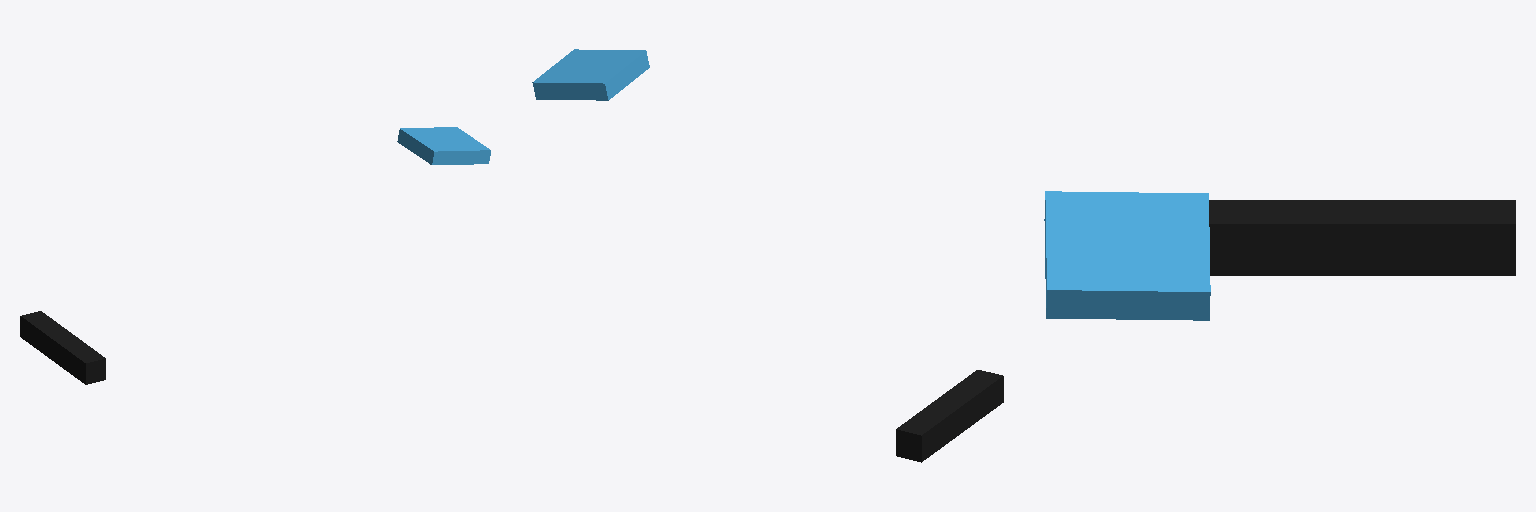
The robot description file, URDF, robot "euler_calibration":
<?xml version="1.0" ?>
<!-- =================================================================================== -->
<!-- |    This document was autogenerated by xacro from camera_scene.xacro             | -->
<!-- |    EDITING THIS FILE BY HAND IS NOT RECOMMENDED                                 | -->
<!-- =================================================================================== -->
<robot name="euler_calibration" xmlns:xacro="http://ros.org/wiki/xacro">
  <link name="world_frame"/>
  <link name="target_frame">
    <visual>
      <origin xyz="0.0 0.0 0.0"/>
      <geometry>
        <box size="0.1143 0.1143 0.025"/>
      </geometry>
    </visual>
  </link>
  <joint name="$world_2_cal_target" type="fixed">
    <parent link="world_frame"/>
    <child link="target_frame"/>
    <origin rpy="-0.022 2.9299 -3.131" xyz="0.649 -.161 0.289"/>
  </joint>
  <material name="asusdark_silver">
    <color rgba="0.15 0.15 0.15 1"/>
  </material>
  <link name="asus_link"/>
  <link name="asus_frame">
    <visual>
      <origin rpy="0 0 0" xyz="0 0 0"/>
      <geometry>
        <box size="0.04 0.22 0.04"/>
      </geometry>
      <material name="asusdark_silver"/>
    </visual>
    <collision>
      <origin rpy="0 0 0" xyz="0 0 0"/>
      <geometry>
        <box size="0.04 0.22 0.04"/>
      </geometry>
    </collision>
  </link>
  <link name="asus_ir_link">
    <visual>
      <origin rpy="0 0 0" xyz="0 0 0"/>
      <geometry>
        <sphere radius="0.0005"/>
      </geometry>
    </visual>
  </link>
  <link name="asus_rgb_link">
    <visual>
      <origin rpy="0 0 0" xyz="0 0 0"/>
      <geometry>
        <sphere radius="0.0005"/>
      </geometry>
    </visual>
  </link>
  <link name="asus_rgb_frame"/>
  <link name="asus_ir_optical_frame"/>
  <link name="asus_rgb_optical_frame"/>
  <link name="asus_link_x_trans">
    <visual>
      <origin rpy="0 0 0" xyz="0 0 0"/>
      <geometry>
        <sphere radius="0.0005"/>
      </geometry>
    </visual>
  </link>
  <link name="asus_link_y_trans"/>
  <link name="asus_link_z_trans"/>
  <link name="asus_link_pitch"/>
  <link name="asus_link_yaw"/>
  <joint name="asus_link_x_joint" type="prismatic">
    <parent link="world_frame"/>
    <child link="asus_link_x_trans"/>
    <origin rpy="0 0 0" xyz="0 0 0"/>
    <axis rpy="0 0 0" xyz="1 0 0"/>
    <limit effort="30" lower="-1.0" upper="1.0" velocity="0.0508"/>
  </joint>
  <joint name="asus_link_y_joint" type="prismatic">
    <parent link="asus_link_x_trans"/>
    <child link="asus_link_y_trans"/>
    <origin rpy="0 0 0" xyz="0 0 0"/>
    <axis rpy="0 0 0" xyz="0 1 0"/>
    <limit effort="30" lower="-1.0" upper="1.0" velocity="0.0508"/>
  </joint>
  <joint name="asus_link_z_joint" type="prismatic">
    <parent link="asus_link_y_trans"/>
    <child link="asus_link_z_trans"/>
    <origin rpy="0 0 0" xyz="0 0 0"/>
    <axis rpy="0 0 0" xyz="0 0 1"/>
    <limit effort="30" lower="-1.0" upper="1.0" velocity="0.0508"/>
  </joint>
  <joint name="asus_link_yaw_joint" type="revolute">
    <parent link="asus_link_z_trans"/>
    <child link="asus_link_yaw"/>
    <origin rpy="0 0 0" xyz="0 0 0"/>
    <limit effort="2" lower="-3.1415" upper="3.1415" velocity="10"/>
    <axis xyz="0 0 1"/>
  </joint>
  <joint name="asus_link_pitch_joint" type="revolute">
    <parent link="asus_link_yaw"/>
    <child link="asus_link_pitch"/>
    <origin rpy="0 0 0" xyz="0 0 0"/>
    <limit effort="2" lower="-3.1415" upper="3.1415" velocity="10"/>
    <axis xyz="0 1 0"/>
  </joint>
  <joint name="asus_link_roll_joint" type="revolute">
    <parent link="asus_link_pitch"/>
    <child link="asus_link"/>
    <origin rpy="0 0 0" xyz="0 0 0"/>
    <limit effort="2" lower="-3.1415" upper="3.1415" velocity="10"/>
    <axis xyz="1 0 0"/>
  </joint>
  <joint name="asus_frame_joint" type="fixed">
    <parent link="asus_link"/>
    <child link="asus_frame"/>
    <origin rpy="0 0 0" xyz="0 0 0"/>
  </joint>
  <joint name="asus_ir_joint" type="fixed">
    <parent link="asus_frame"/>
    <child link="asus_ir_link"/>
    <origin rpy="0 0 0" xyz="0 0 0"/>
  </joint>
  <joint name="asus_ir_optical_frame_joint" type="fixed">
    <parent link="asus_ir_link"/>
    <child link="asus_ir_optical_frame"/>
    <origin rpy="-1.57 0 -1.57" xyz="0 0 0"/>
  </joint>
  <joint name="asus_rgb_joint" type="fixed">
    <parent link="asus_ir_link"/>
    <child link="asus_rgb_link"/>
    <origin rpy="0 0 0" xyz="0 -0.03 0"/>
  </joint>
  <joint name="asus_rgb_frame_joint" type="fixed">
    <parent link="asus_rgb_optical_frame"/>
    <child link="asus_rgb_frame"/>
    <origin rpy="0 0 0" xyz="0 0.0 0"/>
  </joint>
  <joint name="asus_rgb_optical_frame_joint" type="fixed">
    <parent link="asus_rgb_link"/>
    <child link="asus_rgb_optical_frame"/>
    <origin rpy="-1.57 0 -1.57" xyz="0 0 0"/>
  </joint>
</robot>

--- Facts derived from the render (not from the file) ---
Views: 3 orthographic renders of the robot side by side, from view 1: azimuth 30°, elevation 25°; view 2: azimuth 150°, elevation 25°; view 3: azimuth 270°, elevation 25°.
Model euler_calibration with 14 links and 13 joints (3 revolute, 3 prismatic, 7 fixed), rooted at world_frame, posed all joints at 0.
Visible links, largest first — view 1: asus_frame, target_frame; view 2: asus_frame, target_frame; view 3: asus_frame, target_frame.
Boxes of the visible links, left/top/right/bottom form: asus_frame: left=20, top=311, right=105, bottom=384; target_frame: left=397, top=127, right=490, bottom=164; asus_frame: left=896, top=370, right=1003, bottom=462; target_frame: left=532, top=49, right=649, bottom=100; asus_frame: left=1209, top=200, right=1515, bottom=275; target_frame: left=1044, top=191, right=1210, bottom=320.
Bounding box of the posed robot: 0.7284 × 0.329 × 0.3345 m (x, y, z).
Geometry: primitives only (box / cylinder / sphere), no mesh files.
